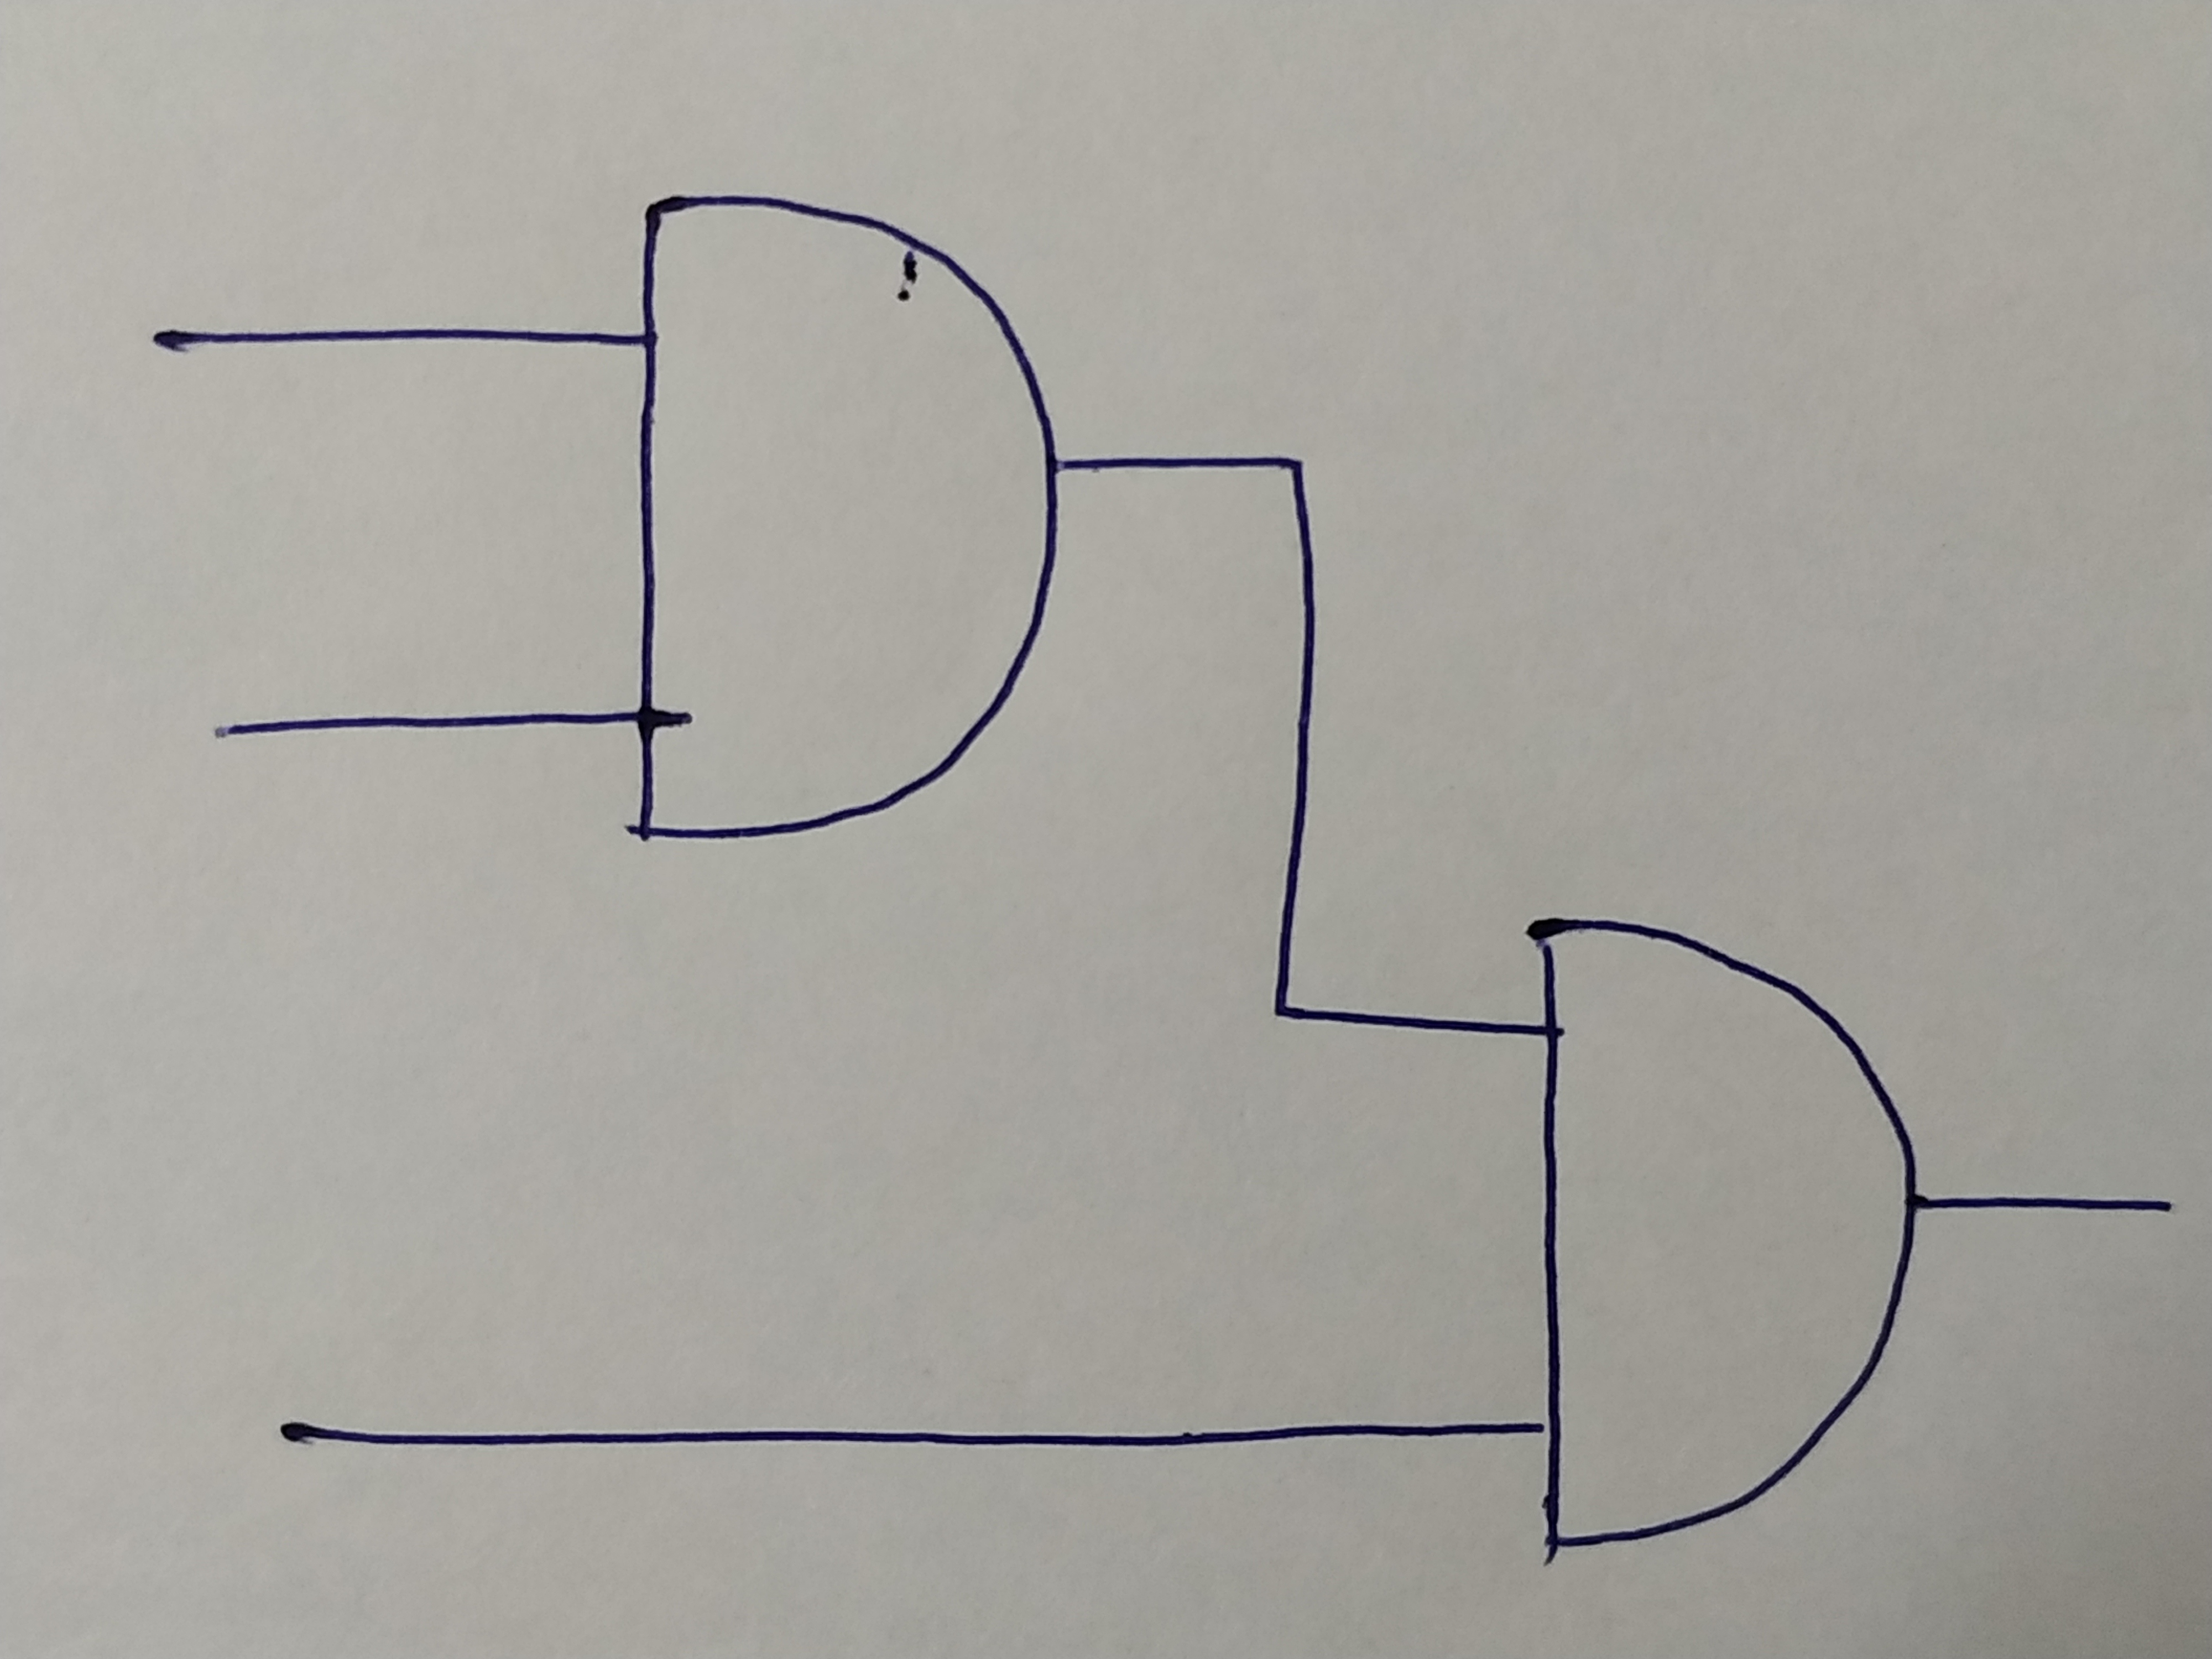and: (629, 197, 1061, 847), (1531, 918, 1909, 1553)
